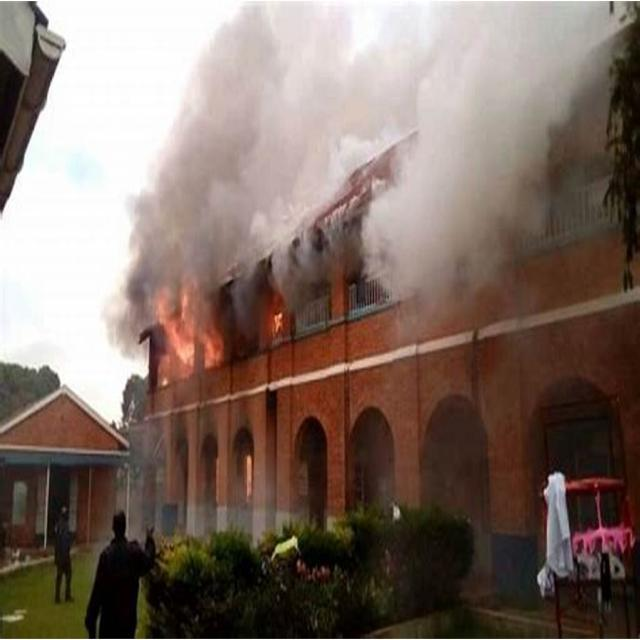Smoke: (381, 36, 536, 266), (196, 87, 330, 220)
